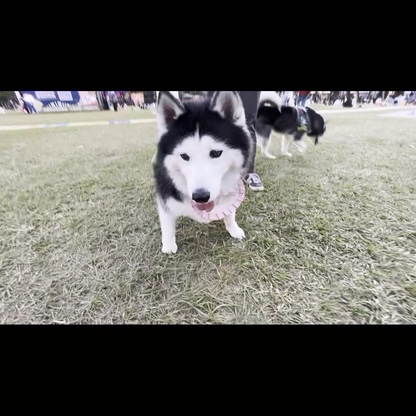husky: (145, 91, 263, 256)
